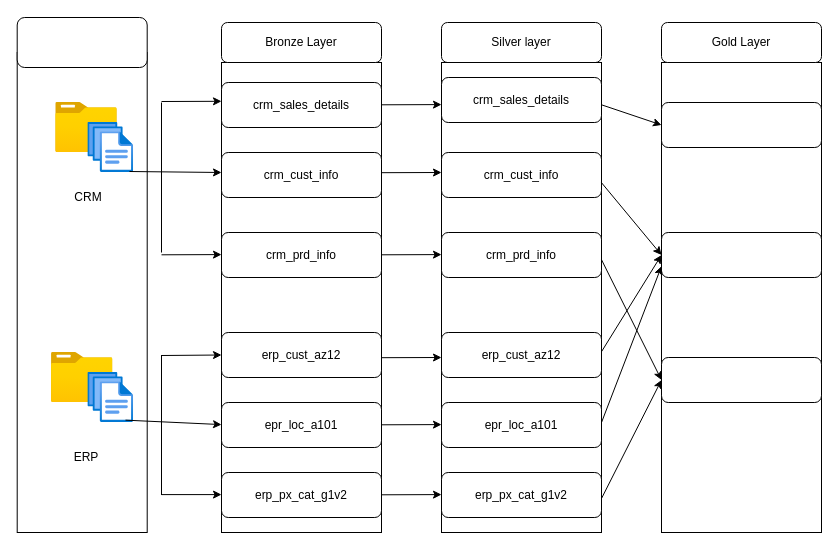
The diagram is 840 pixels wide and 550 high, and some of its shapes have lost their labels. Each missing label, with the centre of its shape:
dim_customers: pixel 741 255
dim_products: pixel 741 379
fact_sales: pixel 741 125
source: pixel 81 42
